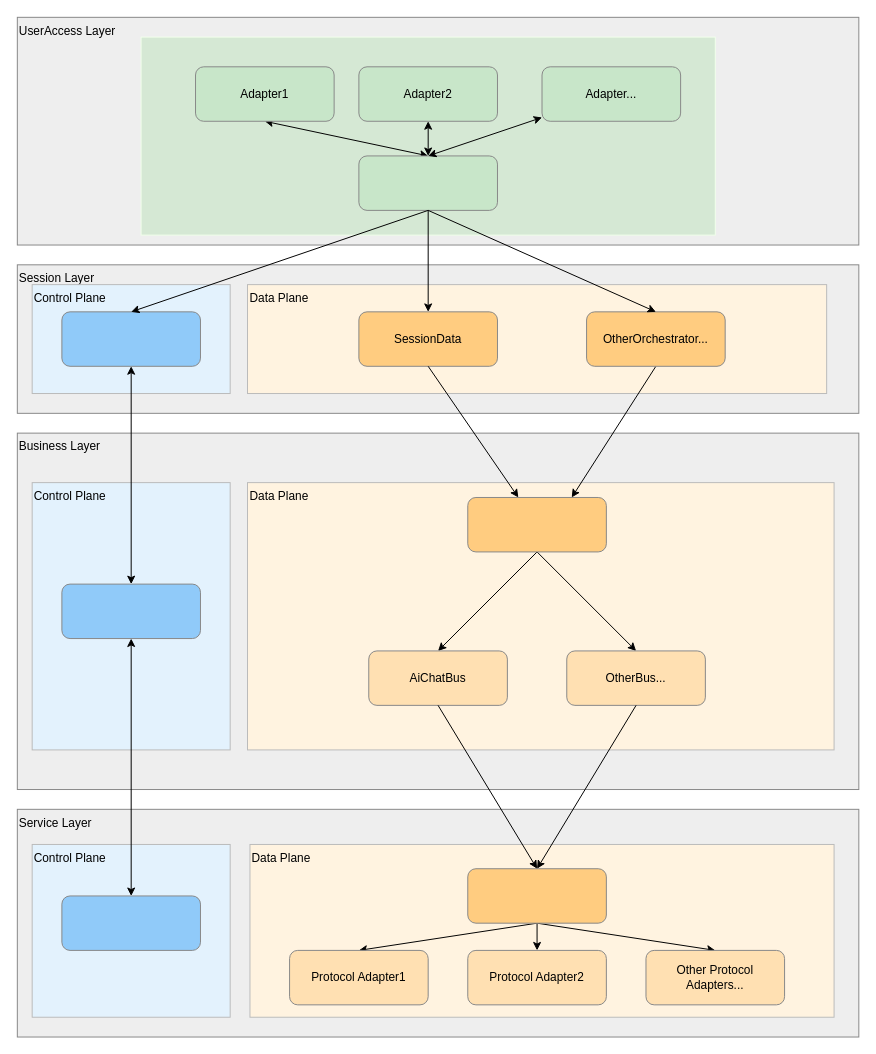
The diagram is 876 pixels wide and 1054 high, and some of its shapes have lost their labels. The centre of each missing label's shape, as x and y in pixels:
AccessGateway: point 427,182
BusinessMgr: point 130,611
Router: point 536,524
ServiceGateway: point 536,895
ServiceMgr: point 130,922
SessionMgr: point 130,338
